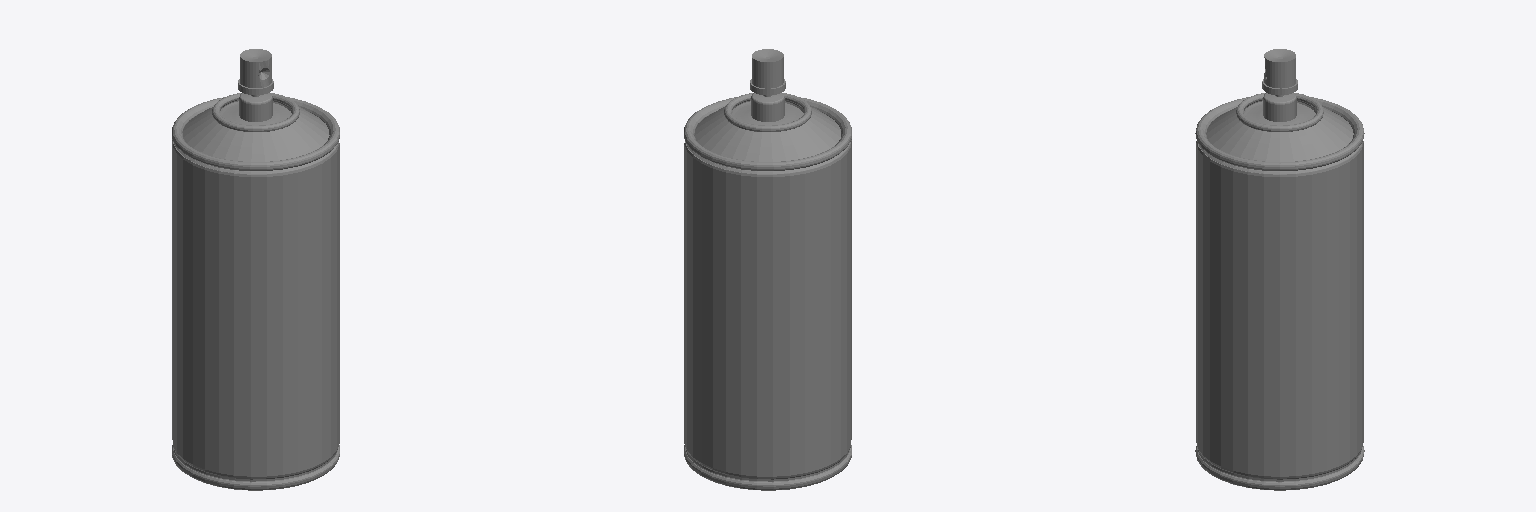
Rendered from can.obj.
The picture shows the model from 3 angles: view 1: azimuth 30°, elevation 25°; view 2: azimuth 150°, elevation 25°; view 3: azimuth 270°, elevation 25°; orthographic projection.
Parts seen in each view (by area): view 1: Object001; view 2: Object001; view 3: Object001.
Boxes of the visible parts, x1=… form: Object001: x1=172, y1=49, x2=339, y2=490; Object001: x1=684, y1=49, x2=851, y2=490; Object001: x1=1195, y1=49, x2=1364, y2=490.
Size of the model in its own units: 1.67 by 4.37 by 1.67.